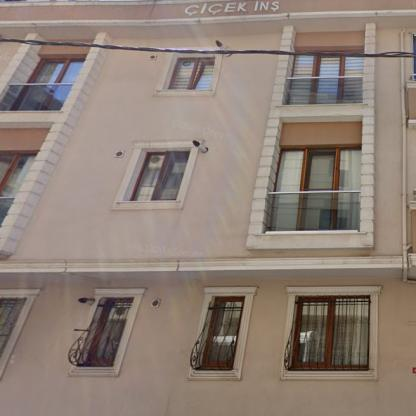window: (291, 298, 368, 368), (275, 147, 361, 191), (82, 299, 131, 363), (132, 152, 190, 200), (204, 298, 241, 367), (0, 151, 39, 196), (0, 298, 26, 362), (292, 54, 362, 77), (169, 57, 214, 89), (26, 59, 84, 83)
